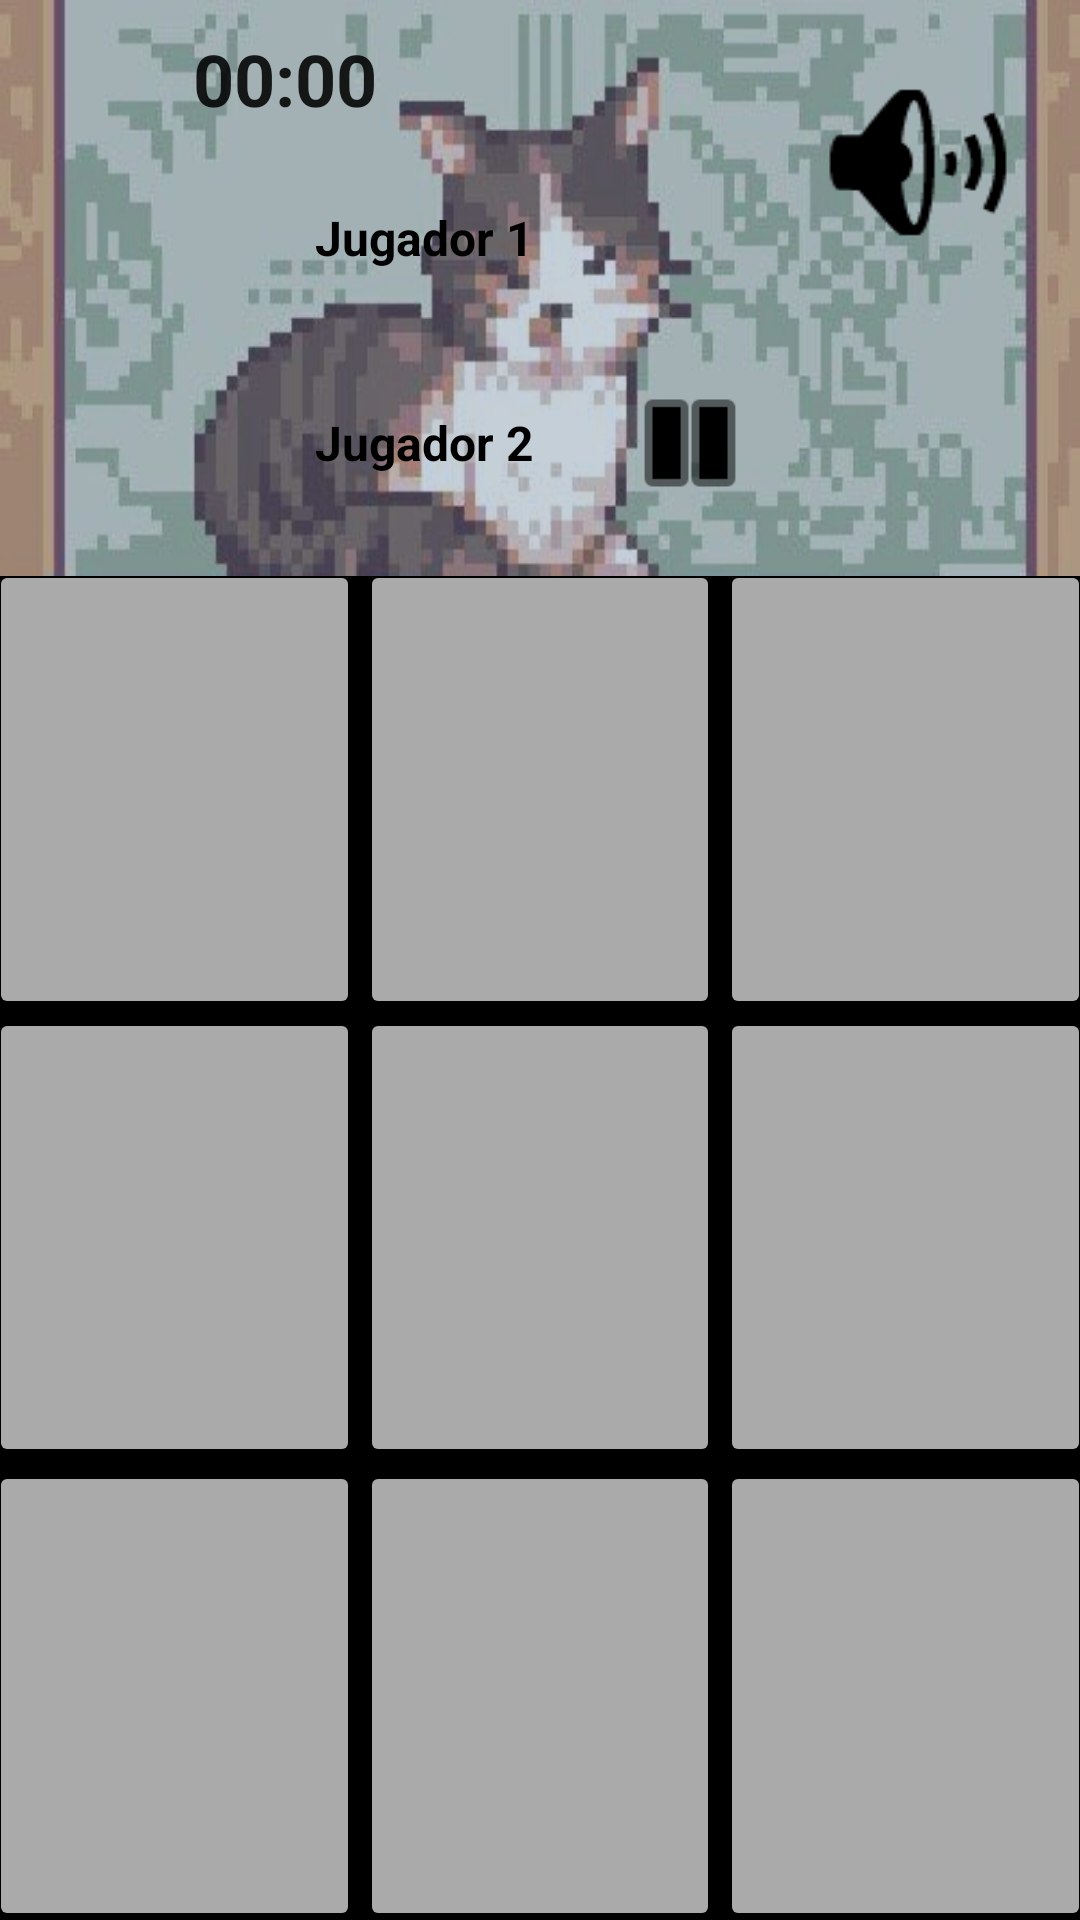

Icons on this 1080px×1920px Android screen, each with the point to tap as point (x, y):
lock silent mode off: point (918, 162)
pause: point (678, 443)
